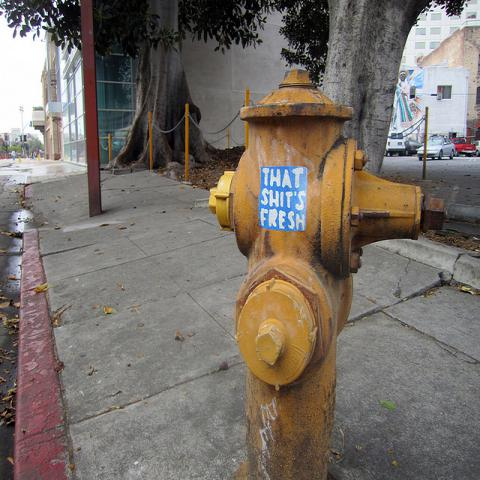car: (416, 134, 456, 161), (385, 136, 407, 158), (451, 137, 476, 156), (404, 140, 422, 156)
